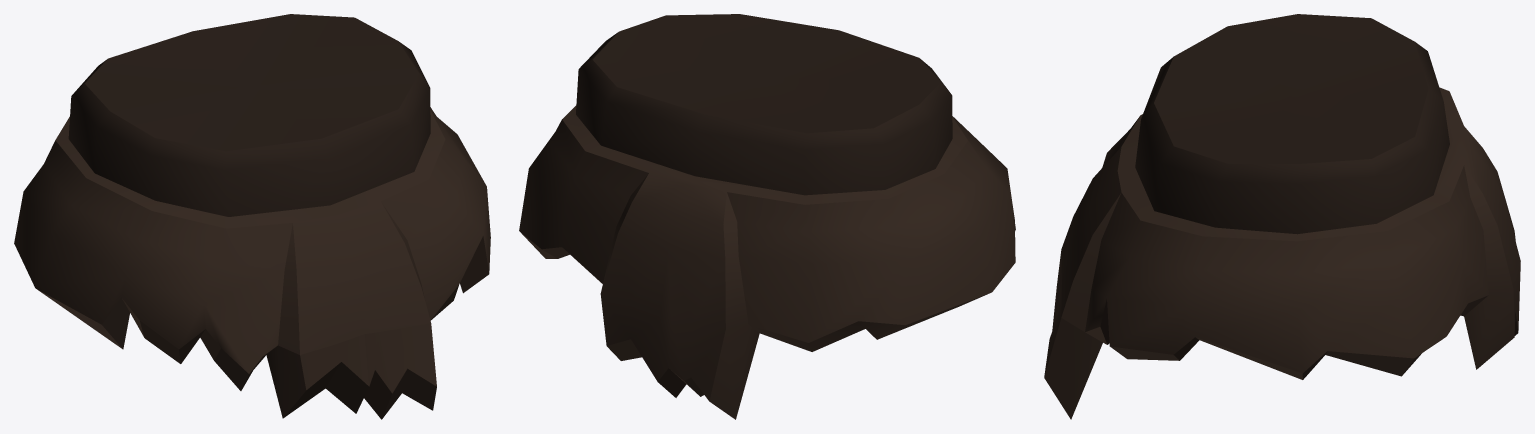
File: Bottom_51.fbx
3 renders of one model, left to right at view 1: azimuth 30°, elevation 25°; view 2: azimuth 150°, elevation 25°; view 3: azimuth 270°, elevation 25°, orthographic. The views are drawn at different scales.
Visible parts, largest first — view 1: Bottom_51; view 2: Bottom_51; view 3: Bottom_51.
Part boxes in pixels (x1,y1,x2,y2): Bottom_51: (14, 14, 490, 419); Bottom_51: (519, 14, 1015, 419); Bottom_51: (1044, 14, 1520, 419).
Size of the model in its own units: 51.7 by 31.35 by 46.13.
